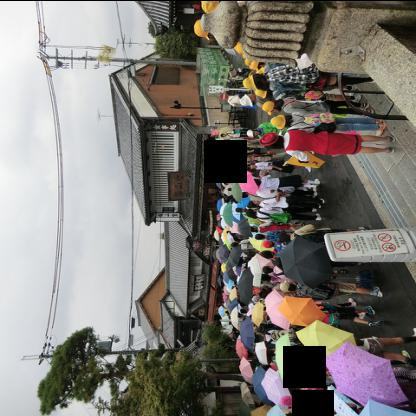backpack: (267, 62, 319, 84), (296, 282, 334, 299), (304, 111, 337, 125), (258, 209, 292, 222)
handbag: (252, 149, 275, 155)
